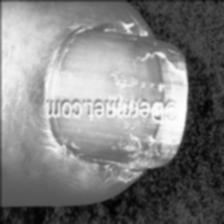Toxin: (146, 33, 190, 88), (128, 132, 172, 178)
